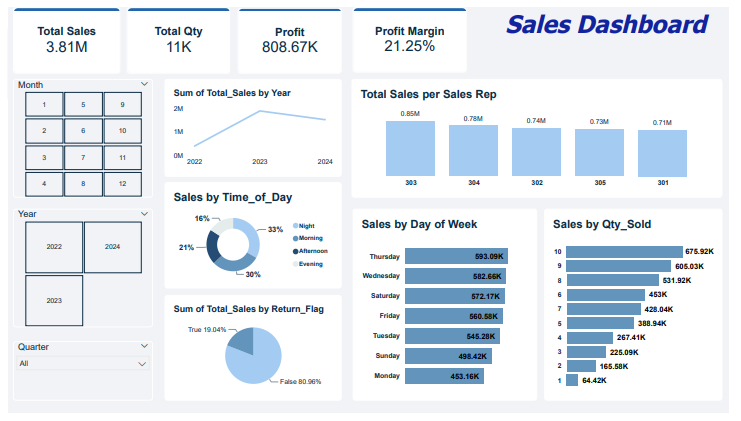

This screenshot's page, from the dashboard's own definition file:
{"tool":"powerbi","page":{"name":"Page 1","canvas":[1280,720],"ordinal":0},"visuals":[{"type":"cardVisual","fields":{"Data":["Cleaned_SmartMart_Sales.Total Sales"]},"box":[9.6,0,190.7,116.6],"z":0},{"type":"cardVisual","fields":{"Data":["Cleaned_SmartMart_Sales.Total Quantity Sold"]},"box":[211.7,0,182.9,116.6],"z":1000},{"type":"cardVisual","fields":{"Data":["Cleaned_SmartMart_Sales.Total Profit"]},"box":[409,1.4,184.3,115.2],"z":2000},{"type":"cardVisual","fields":{"Data":["SmartMart_Sales.Profit Margin %"]},"box":[613.4,0,201.6,115.2],"z":3000},{"type":"barChart","title":" Sales by Day of Week","fields":{"Category":["Cleaned_SmartMart_Sales.Day_of_Week"],"Y":["Cleaned_SmartMart_Sales.Total Sales"]},"box":[613.4,357.1,326.9,339.8],"z":4000},{"type":"donutChart","title":" Sales by Time_of_Day","fields":{"Category":["SmartMart_Sales.Time_of_Day"],"Y":["Sum(SmartMart_Sales.Total_Sales)"]},"box":[279.4,309.6,313.9,188.6],"z":5000},{"type":"columnChart","title":"Total Sales per Sales Rep","fields":{"Category":["Cleaned_SmartMart_Sales.Sales_Rep_ID"],"Y":["SmartMart_Sales.Total Sales"]},"box":[610.6,126.7,658.1,210.2],"z":6000},{"type":"clusteredBarChart","title":"Sales by Qty_Sold","fields":{"Category":["Cleaned_SmartMart_Sales.Quantity_Sold"],"Y":["Cleaned_SmartMart_Sales.Total Sales"]},"box":[953.3,357.1,315.4,339.8],"z":7000},{"type":"textbox","box":[845,3.3,435,115],"z":14000},{"type":"slicer","fields":{"Values":["SmartMart_Sales.Month"]},"box":[10.1,126.7,247.7,210.2],"z":14001},{"type":"slicer","fields":{"Values":["SmartMart_Sales.Year"]},"box":[10.1,357.1,247.7,210.2],"z":14002},{"type":"slicer","fields":{"Values":["SmartMart_Sales.Order_Date.Variation.Date Hierarchy.Quarter"]},"box":[10.1,591.8,247.7,105.1],"z":14003},{"type":"pieChart","fields":{"Category":["SmartMart_Sales.Return_Flag"],"Y":["Sum(SmartMart_Sales.Total_Sales)"]},"box":[279.4,509.8,313.9,187.2],"z":14004},{"type":"lineChart","fields":{"Category":["SmartMart_Sales.Year"],"Y":["Sum(SmartMart_Sales.Total_Sales)"]},"box":[279.4,126.7,313.9,172.8],"z":14005}]}

Visuals, with their boxes in screenshot pixels (x1, y1, x2, y2), scaled from the page's 1280x720 canvas onto the 741x421 screenshot:
cardVisual - Cleaned_SmartMart_Sales.Total Sales: BBox(6, 0, 116, 68)
cardVisual - Cleaned_SmartMart_Sales.Total Quantity Sold: BBox(123, 0, 228, 68)
cardVisual - Cleaned_SmartMart_Sales.Total Profit: BBox(237, 1, 343, 68)
cardVisual - SmartMart_Sales.Profit Margin %: BBox(355, 0, 472, 67)
" Sales by Day of Week" barChart: BBox(355, 209, 544, 407)
" Sales by Time_of_Day" donutChart: BBox(162, 181, 343, 291)
"Total Sales per Sales Rep" columnChart: BBox(353, 74, 734, 197)
"Sales by Qty_Sold" clusteredBarChart: BBox(552, 209, 734, 407)
textbox: BBox(489, 2, 740, 69)
slicer - SmartMart_Sales.Month: BBox(6, 74, 149, 197)
slicer - SmartMart_Sales.Year: BBox(6, 209, 149, 332)
slicer - SmartMart_Sales.Order_Date.Variation.Date Hierarchy.Quarter: BBox(6, 346, 149, 407)
pieChart - SmartMart_Sales.Return_Flag x Sum(SmartMart_Sales.Total_Sales): BBox(162, 298, 343, 408)
lineChart - SmartMart_Sales.Year x Sum(SmartMart_Sales.Total_Sales): BBox(162, 74, 343, 175)
